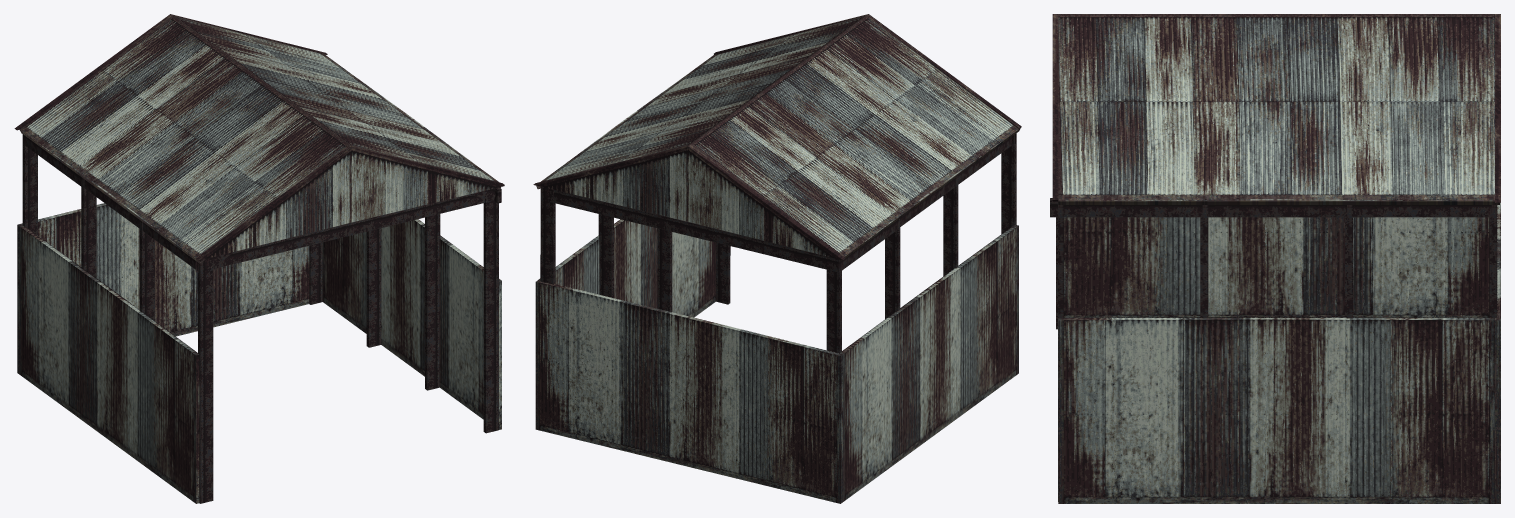
The model's file is SM_EC_Barn_03.fbx.
3 views of the same model, side by side, from view 1: azimuth 30°, elevation 25°; view 2: azimuth 150°, elevation 25°; view 3: azimuth 270°, elevation 25° (orthographic). The views are drawn at different scales.
Visible parts, largest first — view 1: SM_EC_Barn_03; view 2: SM_EC_Barn_03; view 3: SM_EC_Barn_03.
Part boxes in pixels (x1,y1,x2,y2): SM_EC_Barn_03: (14, 14, 504, 503); SM_EC_Barn_03: (533, 14, 1021, 503); SM_EC_Barn_03: (1050, 14, 1500, 503).
Size of the model in its own units: 7.73 by 7.83 by 7.62.
